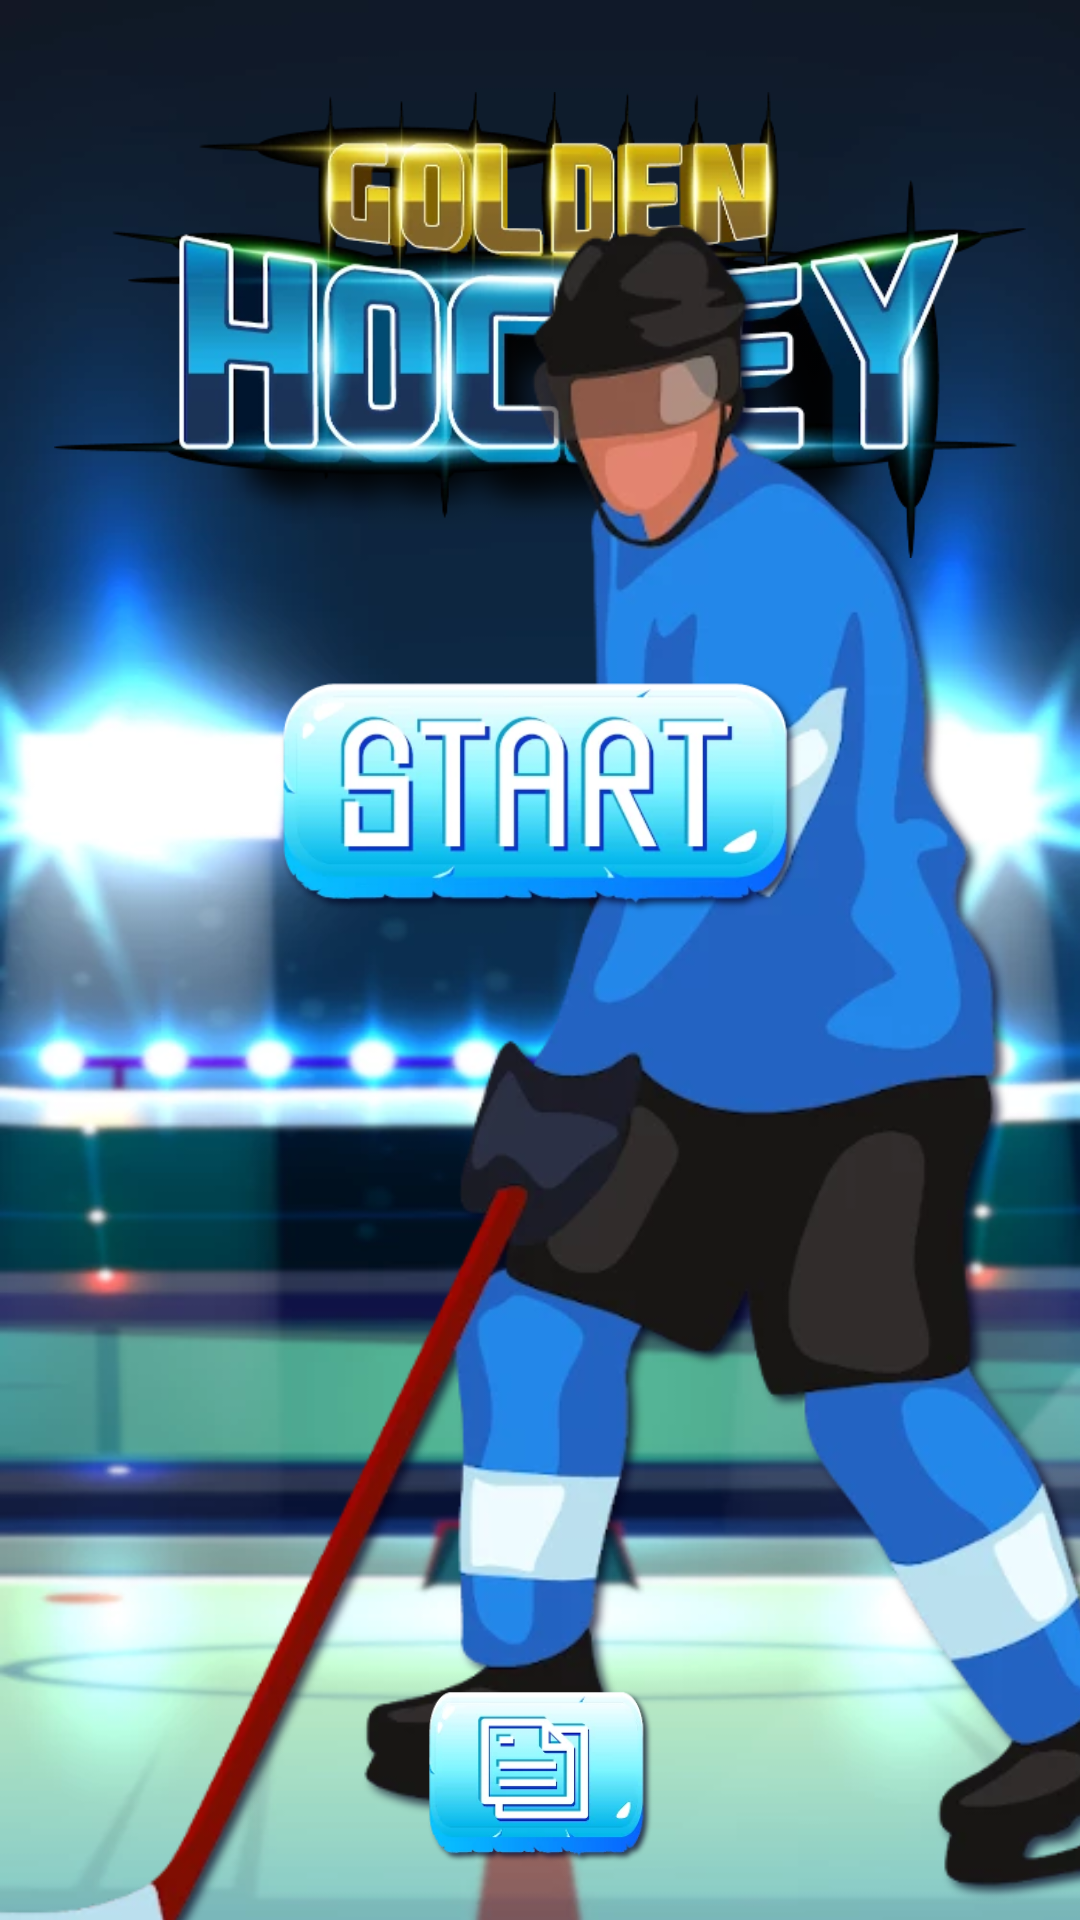

Where to tap for icons on this 1080×1920 app screen, as (x=x, y=y):
rules: (x=540, y=1778)
